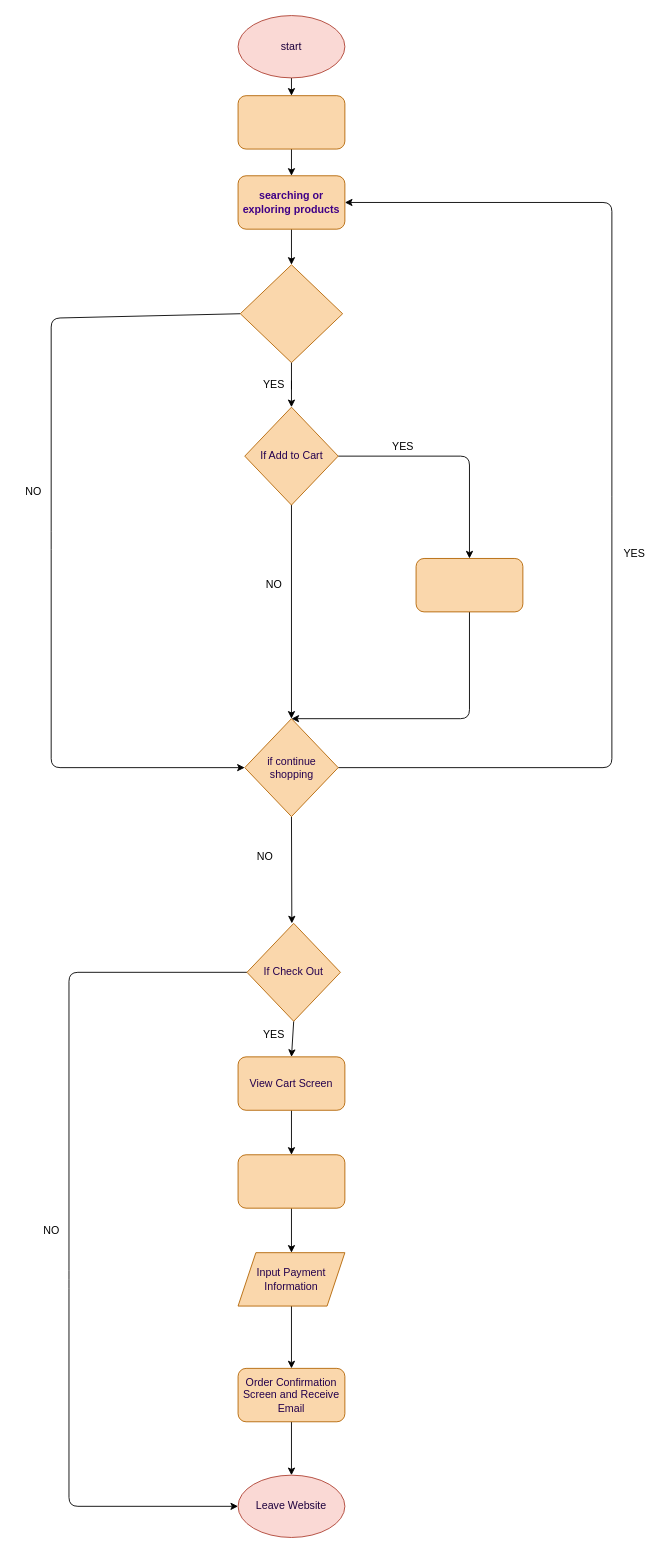
Image size: 671x1553. Some labels were removed from this diagram. Here are the shapes that lost their labels. From the top down, the centre of each, then its label:
the point at 291,122: User enter Homepage
the point at 291,313: view a specific product in product's webpage
the point at 469,585: Comfirmation of adding to cart
the point at 291,1181: View Payment Screen
